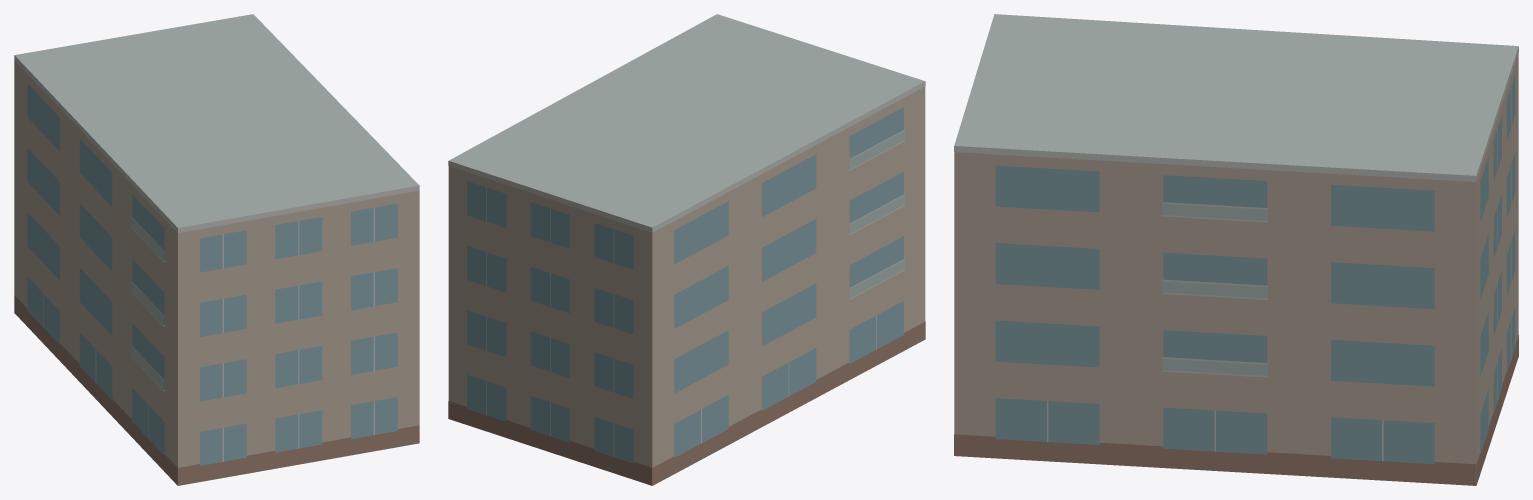
The model's file is residential-9a6f3a67-05ac-446d-bf9b-0820fd5b92c4.glb.
3 views of the same model, side by side, from view 1: azimuth 30°, elevation 25°; view 2: azimuth 150°, elevation 25°; view 3: azimuth 270°, elevation 25° (orthographic). The views are drawn at different scales.
Parts seen in each view (by area): view 1: residential-9a6f3a67-05ac-446d-bf9b-0820fd5b92c4.tmp; view 2: residential-9a6f3a67-05ac-446d-bf9b-0820fd5b92c4.tmp; view 3: residential-9a6f3a67-05ac-446d-bf9b-0820fd5b92c4.tmp.
Part boxes in pixels (box(x1,y1,x2,y2)): residential-9a6f3a67-05ac-446d-bf9b-0820fd5b92c4.tmp: box(14, 14, 419, 485); residential-9a6f3a67-05ac-446d-bf9b-0820fd5b92c4.tmp: box(448, 14, 925, 485); residential-9a6f3a67-05ac-446d-bf9b-0820fd5b92c4.tmp: box(954, 14, 1518, 485).
Bounding box in the file's own units: 13.67 × 12.2 × 20.15.
